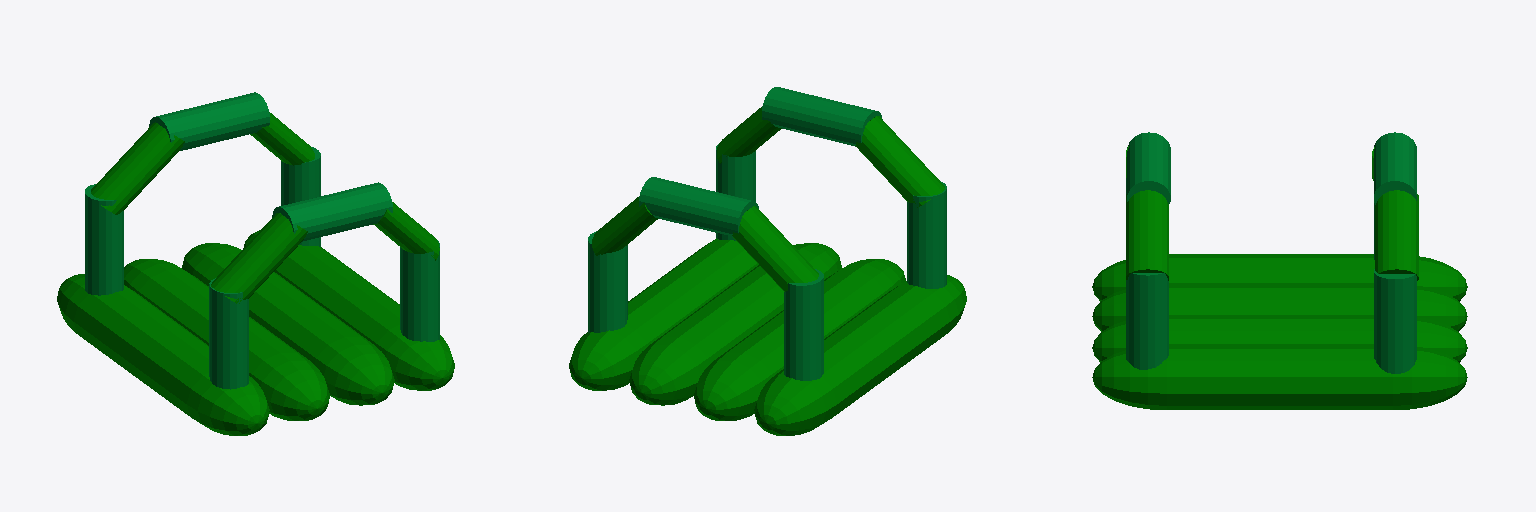
File: inflable.obj
3 views of the same model, side by side, from view 1: azimuth 30°, elevation 25°; view 2: azimuth 150°, elevation 25°; view 3: azimuth 270°, elevation 25° (orthographic).
Parts seen in each view (by area): view 1: Capsule001, Capsule003, Capsule002, Capsule004, Cylinder008, Cylinder005, Cylinder001, Cylinder006, Cylinder009, Cylinder002, Cylinder004, Cylinder003 (+2 smaller); view 2: Capsule001, Capsule003, Capsule004, Capsule002, Cylinder005, Cylinder008, Cylinder002, Cylinder001, Cylinder006, Cylinder009, Cylinder003, Cylinder010 (+2 smaller); view 3: Capsule004, Capsule002, Capsule003, Capsule001, Cylinder003, Cylinder004, Cylinder010, Cylinder007, Cylinder005, Cylinder008.
Boxes of the visible parts, <box> form: Capsule001: <box>57,274,269,435</box>; Capsule003: <box>182,243,394,405</box>; Capsule002: <box>124,259,329,420</box>; Capsule004: <box>243,230,454,390</box>; Cylinder008: <box>149,92,269,150</box>; Cylinder005: <box>272,182,392,241</box>; Cylinder001: <box>209,278,248,389</box>; Cylinder006: <box>211,213,307,303</box>; Cylinder009: <box>91,122,184,214</box>; Cylinder002: <box>85,184,123,295</box>; Cylinder004: <box>400,240,439,341</box>; Cylinder003: <box>281,147,320,246</box>; Capsule001: <box>754,275,966,435</box>; Capsule003: <box>629,243,841,405</box>; Capsule004: <box>569,238,758,390</box>; Capsule002: <box>694,259,905,420</box>; Cylinder005: <box>762,87,882,146</box>; Cylinder008: <box>639,177,758,236</box>; Cylinder002: <box>784,269,823,380</box>; Cylinder001: <box>907,181,946,288</box>; Cylinder006: <box>855,116,944,207</box>; Cylinder009: <box>732,206,818,291</box>; Cylinder003: <box>588,231,627,332</box>; Cylinder010: <box>592,197,657,255</box>; Capsule004: <box>1092,344,1467,409</box>; Capsule002: <box>1092,283,1467,331</box>; Capsule003: <box>1092,315,1467,362</box>; Capsule001: <box>1092,254,1467,301</box>; Cylinder003: <box>1374,269,1416,373</box>; Cylinder004: <box>1126,273,1168,369</box>; Cylinder010: <box>1375,190,1418,280</box>; Cylinder007: <box>1126,190,1168,280</box>; Cylinder005: <box>1127,132,1170,203</box>; Cylinder008: <box>1374,132,1416,204</box>.
Size of the model in its own units: 62.92 by 50.11 by 81.24.